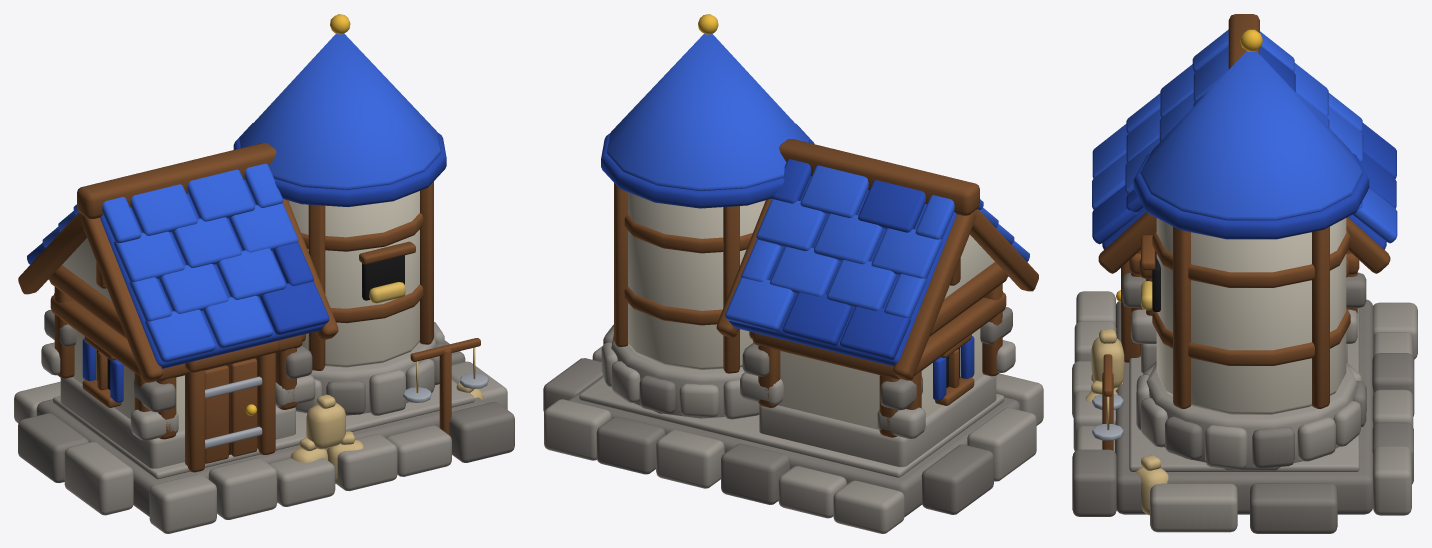
File: Granary.glb
3 renders of one model, left to right at view 1: azimuth 30°, elevation 25°; view 2: azimuth 150°, elevation 25°; view 3: azimuth 270°, elevation 25°, orthographic. The views are drawn at different scales.
Parts seen in each view (by area): view 1: Granary; view 2: Granary; view 3: Granary.
Boxes of the visible parts, x1,y1,x2,y2 form: Granary: [14, 14, 514, 533]; Granary: [543, 14, 1043, 533]; Granary: [1072, 14, 1417, 533].
Bounding box in the file's own units: 3.62 × 3.37 × 2.41.
